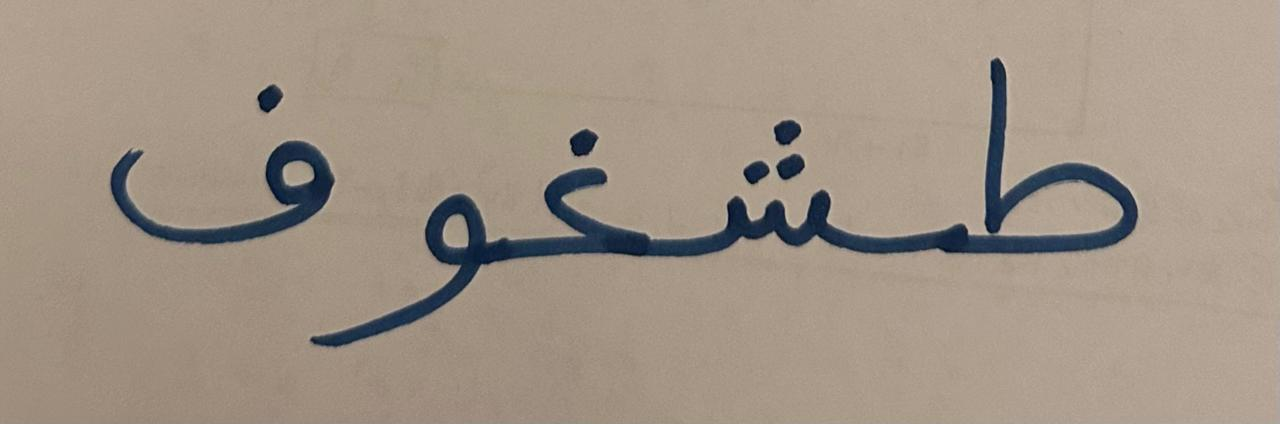feh: (66, 38, 346, 290)
ghain: (508, 56, 667, 313)
tah: (671, 25, 882, 309)
teh: (887, 13, 1176, 313)
yeh: (349, 134, 505, 372)
